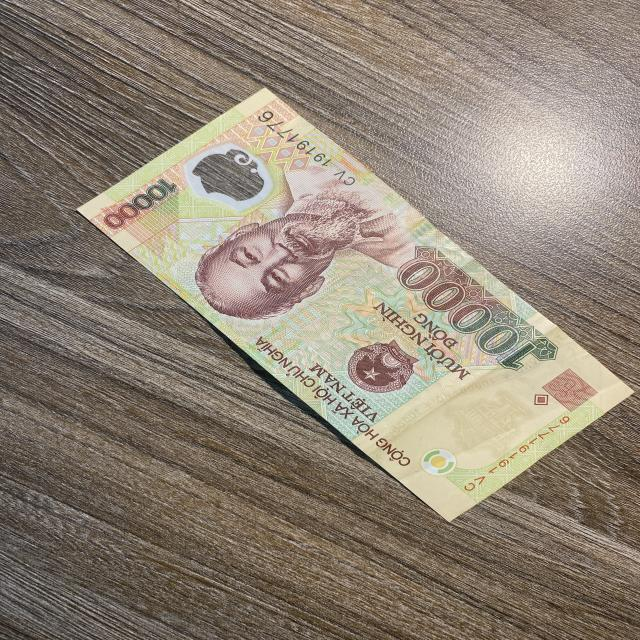10 000 VND: (70, 81, 640, 518)
